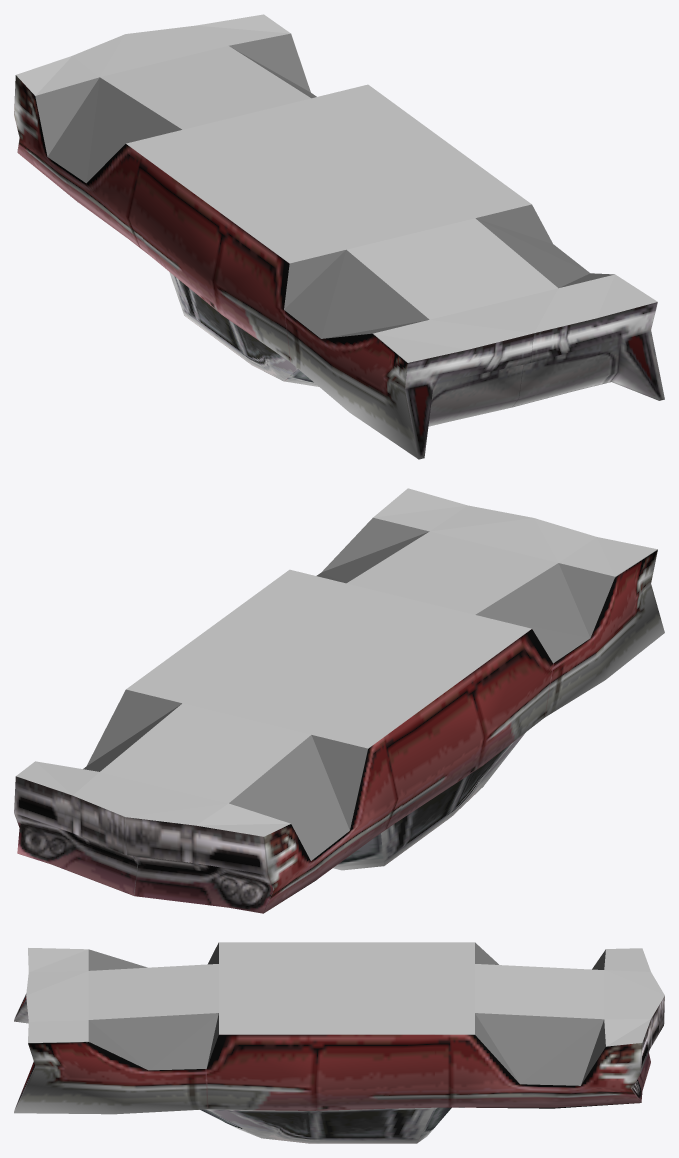
The model's file is HAVANA_model1_clean.obj.
3 renders of one model, top to bottom at view 1: azimuth 30°, elevation 25°; view 2: azimuth 150°, elevation 25°; view 3: azimuth 270°, elevation 25°, orthographic. The views are drawn at different scales.
Visible parts, largest first — view 1: HAVANA_model1_clean; view 2: HAVANA_model1_clean; view 3: HAVANA_model1_clean.
Boxes of the visible parts, x1,y1,x2,y2 form: HAVANA_model1_clean: [14, 14, 664, 459]; HAVANA_model1_clean: [14, 488, 664, 913]; HAVANA_model1_clean: [14, 942, 664, 1143].
Bounding box in the file's own units: 282 × 157 × 750.
